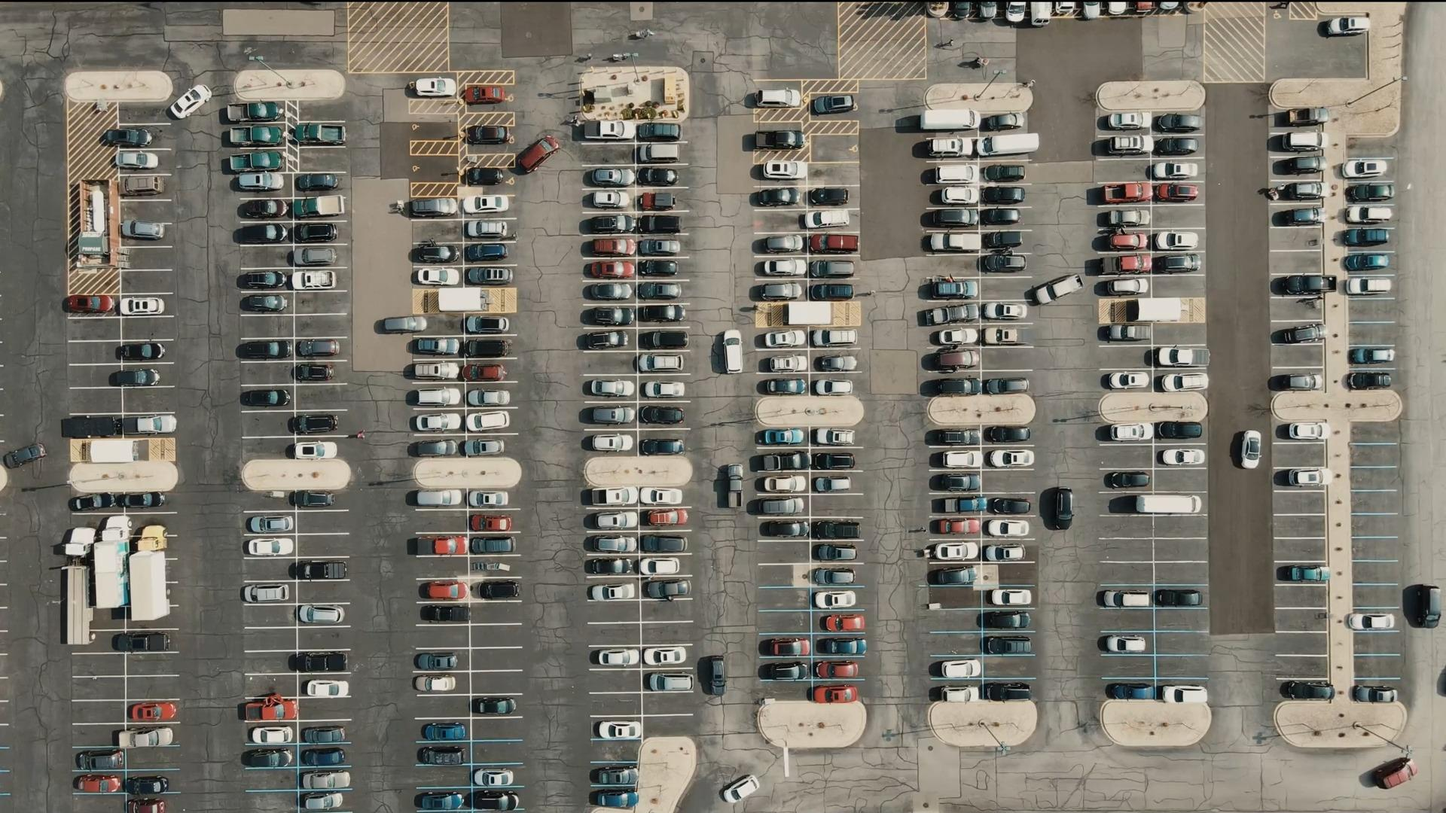occupied: (515, 135, 560, 175), (1405, 584, 1443, 627), (1033, 273, 1083, 305), (1372, 757, 1419, 790), (168, 84, 212, 119), (244, 696, 297, 722), (981, 132, 1038, 156), (1135, 495, 1201, 514), (61, 417, 117, 439), (919, 108, 975, 130), (720, 774, 760, 804), (228, 126, 283, 147), (293, 123, 345, 145), (3, 443, 47, 469), (224, 154, 280, 174), (1281, 681, 1336, 701), (229, 102, 283, 122), (292, 652, 346, 672), (297, 195, 346, 217), (113, 633, 169, 652), (1281, 275, 1334, 295), (701, 654, 726, 696), (720, 329, 743, 374), (1103, 182, 1152, 203), (63, 295, 114, 315), (416, 791, 467, 811), (133, 524, 168, 553), (584, 121, 632, 142), (129, 701, 177, 722), (409, 197, 459, 217), (239, 224, 289, 244), (244, 749, 294, 769), (295, 562, 347, 581), (462, 194, 509, 215), (1279, 324, 1328, 344), (1238, 429, 1263, 468), (61, 527, 97, 554), (930, 233, 981, 252), (466, 410, 510, 432), (1104, 254, 1150, 275), (1343, 158, 1391, 178), (111, 368, 161, 387), (985, 636, 1035, 655), (476, 790, 521, 811), (1323, 16, 1370, 36), (242, 199, 289, 219), (298, 604, 345, 624), (123, 775, 170, 795), (127, 728, 174, 748), (1154, 254, 1201, 274), (302, 770, 349, 790), (104, 128, 153, 147), (1159, 347, 1208, 366), (984, 683, 1033, 702), (755, 87, 801, 107), (1279, 155, 1325, 175), (927, 137, 973, 157), (243, 583, 289, 603), (761, 637, 807, 657), (238, 341, 289, 359), (1107, 683, 1158, 701), (757, 130, 805, 149), (117, 342, 165, 361), (418, 746, 466, 765), (1160, 373, 1208, 392), (761, 662, 809, 681), (74, 774, 122, 793), (812, 94, 855, 115), (1281, 131, 1324, 152), (1105, 135, 1150, 155), (77, 751, 122, 771), (936, 659, 981, 679), (69, 494, 119, 512), (812, 684, 857, 704), (413, 244, 460, 263), (291, 415, 338, 434), (1162, 685, 1209, 704), (241, 294, 288, 313), (421, 604, 468, 623), (98, 515, 135, 539), (414, 77, 456, 98), (239, 271, 288, 289), (1101, 590, 1150, 608), (240, 389, 289, 407), (121, 219, 165, 239), (1104, 112, 1150, 131), (465, 219, 511, 238), (1102, 634, 1148, 653), (593, 767, 639, 786), (302, 748, 348, 767), (935, 684, 981, 703), (595, 648, 641, 667), (295, 173, 343, 191), (1345, 205, 1393, 223), (1276, 182, 1324, 200), (301, 792, 344, 812), (294, 223, 339, 242), (465, 315, 510, 334), (462, 85, 507, 104), (595, 721, 640, 740), (422, 723, 467, 742), (1159, 421, 1204, 440), (291, 271, 336, 290), (1347, 612, 1394, 630), (289, 441, 336, 459), (122, 175, 164, 195), (982, 112, 1026, 131), (1286, 422, 1330, 441), (1156, 183, 1200, 202), (415, 490, 464, 507), (1155, 114, 1201, 132), (1349, 183, 1395, 201), (1154, 137, 1200, 155), (247, 515, 293, 533), (930, 280, 976, 298), (1345, 253, 1391, 271), (1278, 208, 1324, 226), (1345, 277, 1391, 295), (648, 673, 694, 691), (246, 538, 292, 556), (1104, 371, 1150, 389), (592, 790, 638, 808), (638, 144, 681, 163), (121, 297, 164, 316), (1287, 107, 1330, 126), (589, 190, 632, 209), (644, 647, 687, 666), (1282, 565, 1330, 582), (467, 126, 512, 144), (292, 247, 337, 265), (302, 727, 347, 745), (1353, 685, 1398, 703), (1282, 469, 1327, 487), (1155, 231, 1200, 249), (987, 588, 1032, 606), (1102, 279, 1147, 297), (249, 726, 294, 744), (1348, 372, 1393, 390), (1107, 424, 1152, 442), (1349, 347, 1396, 364), (1156, 590, 1203, 607), (380, 316, 427, 333), (1346, 228, 1393, 245), (1152, 162, 1199, 179), (1104, 325, 1151, 342), (588, 584, 635, 601), (135, 414, 177, 433), (1107, 231, 1149, 250), (638, 122, 682, 140), (297, 339, 341, 357), (416, 653, 460, 671), (305, 679, 349, 697), (1162, 448, 1206, 466), (467, 267, 513, 284), (1054, 488, 1074, 527), (479, 581, 520, 600), (474, 697, 517, 715), (416, 268, 459, 286), (1273, 374, 1321, 390), (474, 768, 514, 787), (425, 581, 465, 600), (118, 151, 160, 169), (469, 389, 511, 407), (118, 492, 165, 508), (1107, 209, 1151, 226), (466, 168, 510, 185), (465, 244, 509, 261), (763, 160, 804, 178), (292, 491, 335, 508), (727, 462, 743, 507), (470, 515, 512, 532), (1107, 472, 1151, 488), (468, 490, 509, 507), (414, 675, 455, 692), (430, 537, 468, 555), (294, 364, 334, 381), (126, 798, 167, 813), (1030, 1, 1053, 25), (1006, 0, 1028, 23), (1054, 0, 1077, 17), (927, 1, 950, 18), (952, 1, 973, 19), (978, 1, 997, 20), (1082, 1, 1102, 19), (1133, 1, 1156, 16), (1106, 1, 1128, 16), (630, 28, 655, 41), (1158, 1, 1180, 14)
